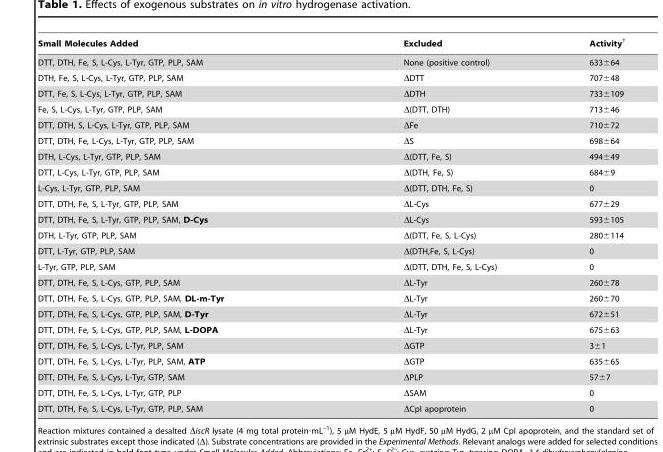table: (36, 36, 624, 412)
table column: (36, 36, 313, 412), (313, 36, 542, 412), (542, 36, 624, 412)
table column header: (36, 36, 624, 52)
table row: (36, 52, 624, 69), (36, 36, 624, 52), (36, 69, 624, 85), (36, 85, 624, 101), (36, 116, 624, 132), (36, 132, 624, 148), (36, 148, 624, 164), (36, 164, 624, 180), (36, 195, 624, 211), (36, 211, 624, 227), (36, 227, 624, 243), (36, 258, 624, 274), (36, 274, 624, 290), (36, 305, 624, 321), (36, 321, 624, 337), (36, 337, 624, 353), (36, 368, 624, 384), (36, 384, 624, 400), (36, 101, 624, 116), (36, 180, 624, 195), (36, 243, 624, 258), (36, 290, 624, 305), (36, 353, 624, 368), (36, 400, 624, 412)
